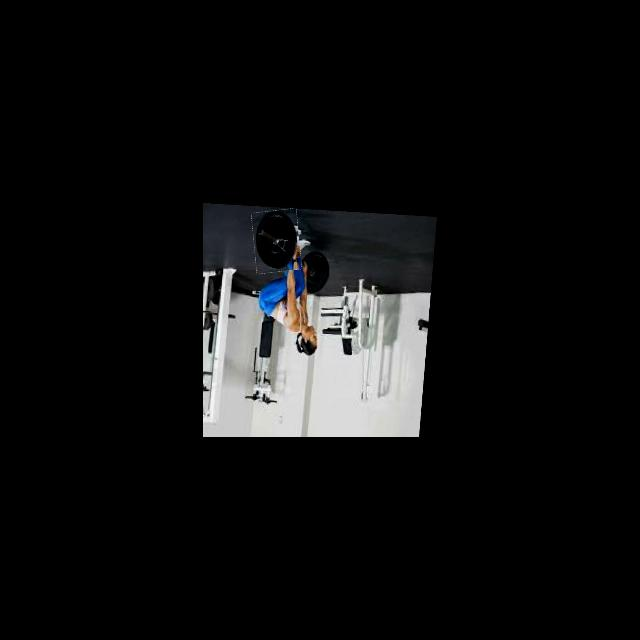barbell: (250, 207, 304, 274)
